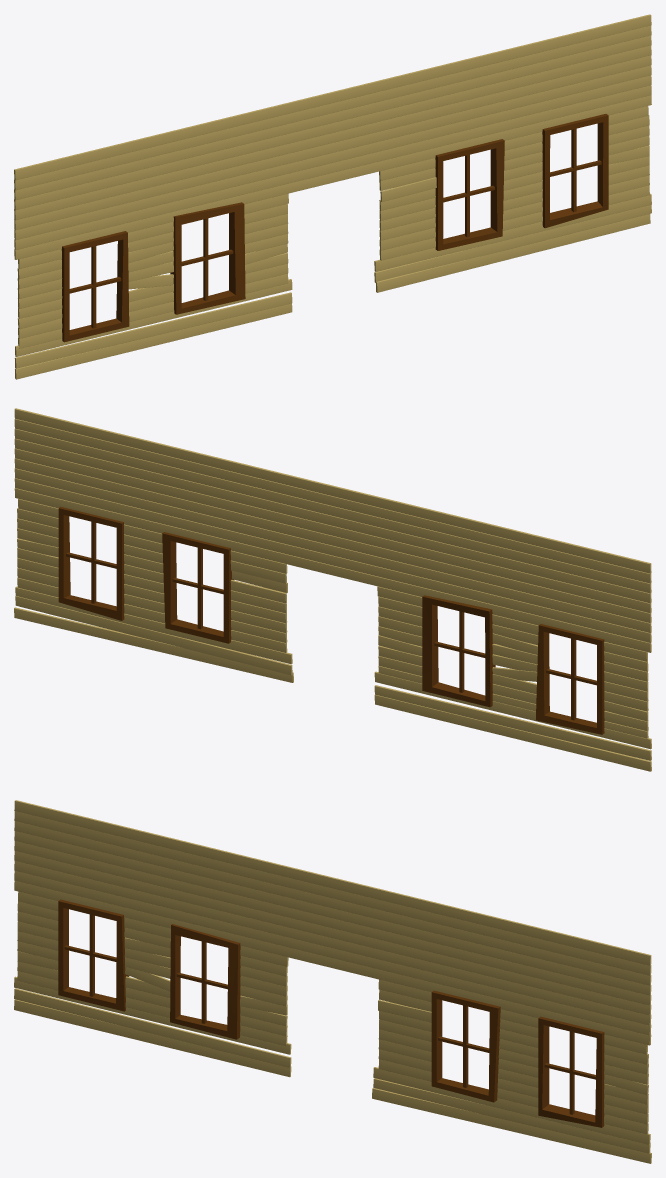
The model's file is Tuerrahmen 1.fbx.
3 views of the same model, one above another, from view 1: azimuth 30°, elevation 25°; view 2: azimuth 150°, elevation 25°; view 3: azimuth 330°, elevation 25° (orthographic).
Parts seen in each view (by area): view 1: Wand.159; view 2: Wand.159; view 3: Wand.159.
Part boxes in pixels (x1,y1,x2,y2): Wand.159: (14,14,651,379); Wand.159: (14,408,651,771); Wand.159: (14,800,651,1163).
Bounding box in the file's own units: 1000 × 314 × 20.99.
